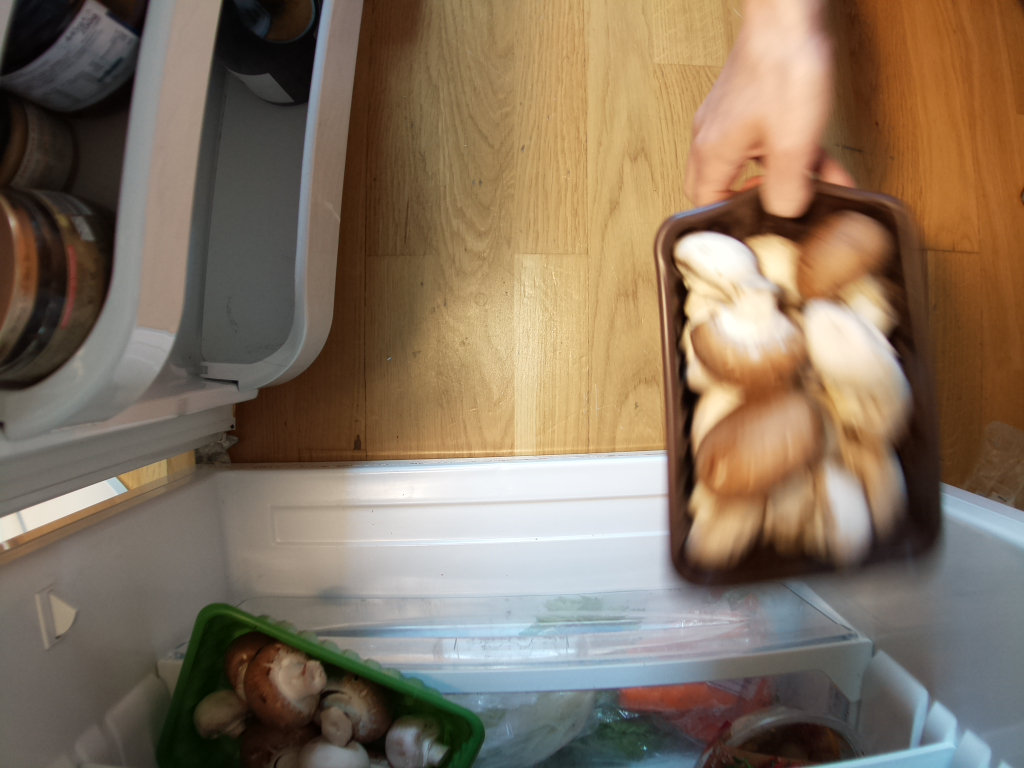mushrooms: (655, 190, 932, 583), (171, 611, 480, 768)
